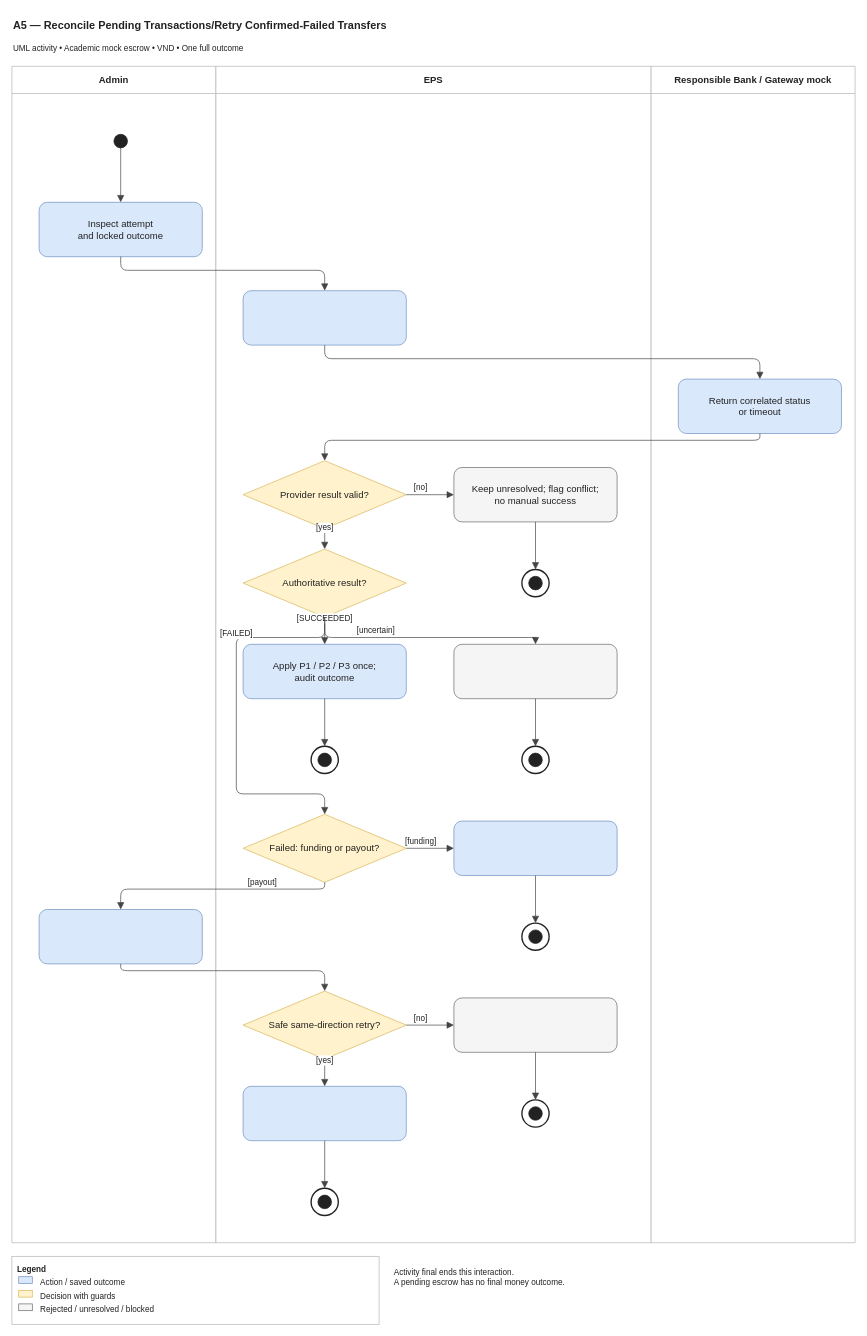
This 867x1336 diagram has some shape labels left out. The shapes that lost their labels are listed below. From the top down, each one's centre as x and y in pixels, then its label:
At point (324, 317): "Authorize Admin; query original attempt".
At point (535, 671): "Keep PENDING / UNKNOWN; retain lock; no retry".
At point (535, 848): "AWAITING_FUNDING; buyer alone retries B3".
At point (120, 936): "Request approved payout retry".
At point (535, 1024): "Reject unsafe retry; reuse active attempt".
At point (324, 1113): "Create linked attempt; call P2 / P3; audit".
